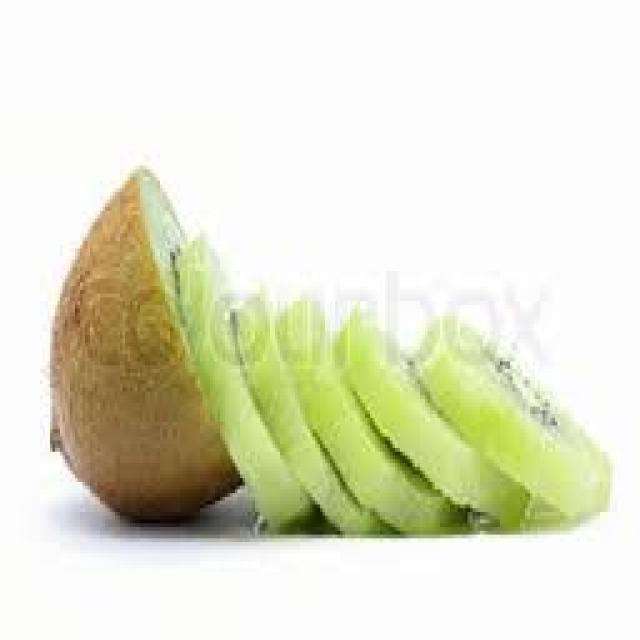organic waste: (42, 158, 248, 523), (278, 294, 468, 527), (172, 226, 312, 531), (408, 312, 608, 520), (335, 309, 525, 527), (228, 290, 392, 531)
